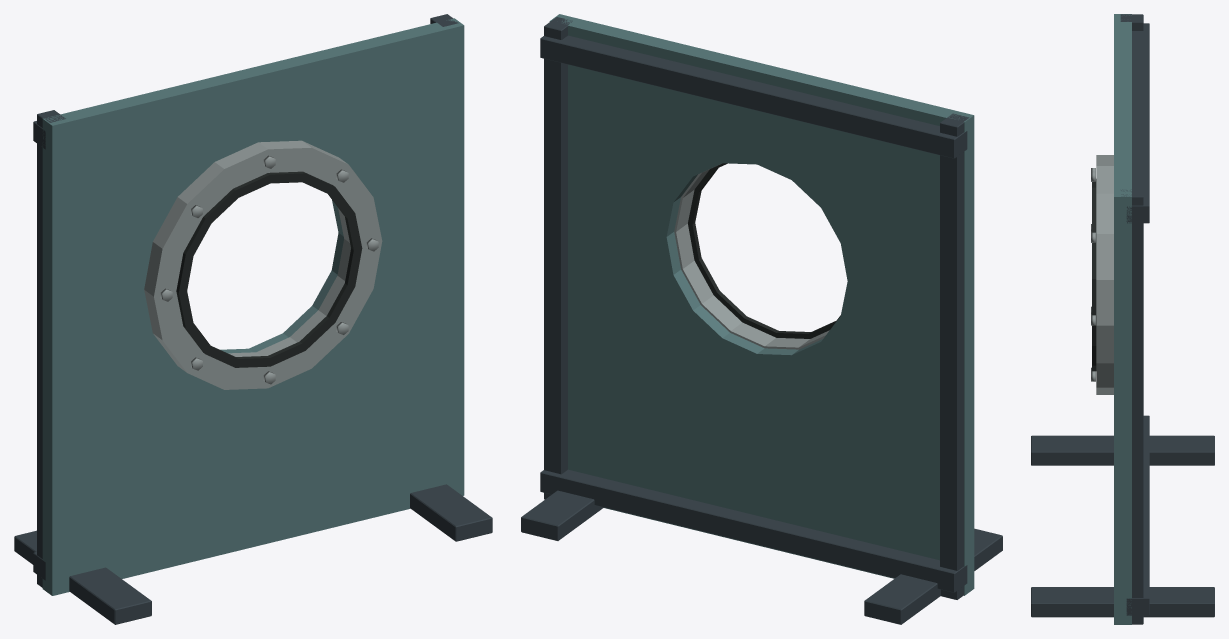
Rendered from S008_porthole_bulkhead_rebuilt.glb.
3 views of the same model, side by side, from view 1: azimuth 30°, elevation 25°; view 2: azimuth 150°, elevation 25°; view 3: azimuth 270°, elevation 25° (orthographic). The views are drawn at different scales.
Visible parts, largest first — view 1: Muted_teal_scenic_paint, Bare_brushed_hardware, Dark_painted_steel, Deep_recess_charcoal; view 2: Muted_teal_scenic_paint, Dark_painted_steel, Bare_brushed_hardware, Deep_recess_charcoal; view 3: Dark_painted_steel, Muted_teal_scenic_paint, Bare_brushed_hardware, Deep_recess_charcoal.
Boxes of the visible parts, x1,y1,x2,y2 form: Muted_teal_scenic_paint: (42,18,464,595); Bare_brushed_hardware: (144,140,382,389); Dark_painted_steel: (14,14,492,624); Deep_recess_charcoal: (176,171,362,367); Muted_teal_scenic_paint: (549,14,974,595); Dark_painted_steel: (521,17,1002,624); Bare_brushed_hardware: (674,164,829,349); Deep_recess_charcoal: (688,163,840,338); Dark_painted_steel: (1031,14,1214,624); Muted_teal_scenic_paint: (1114,14,1131,624); Bare_brushed_hardware: (1091,155,1113,394); Deep_recess_charcoal: (1092,179,1096,371).
Size of the model in its own units: 2.2 by 2.4 by 0.935.
